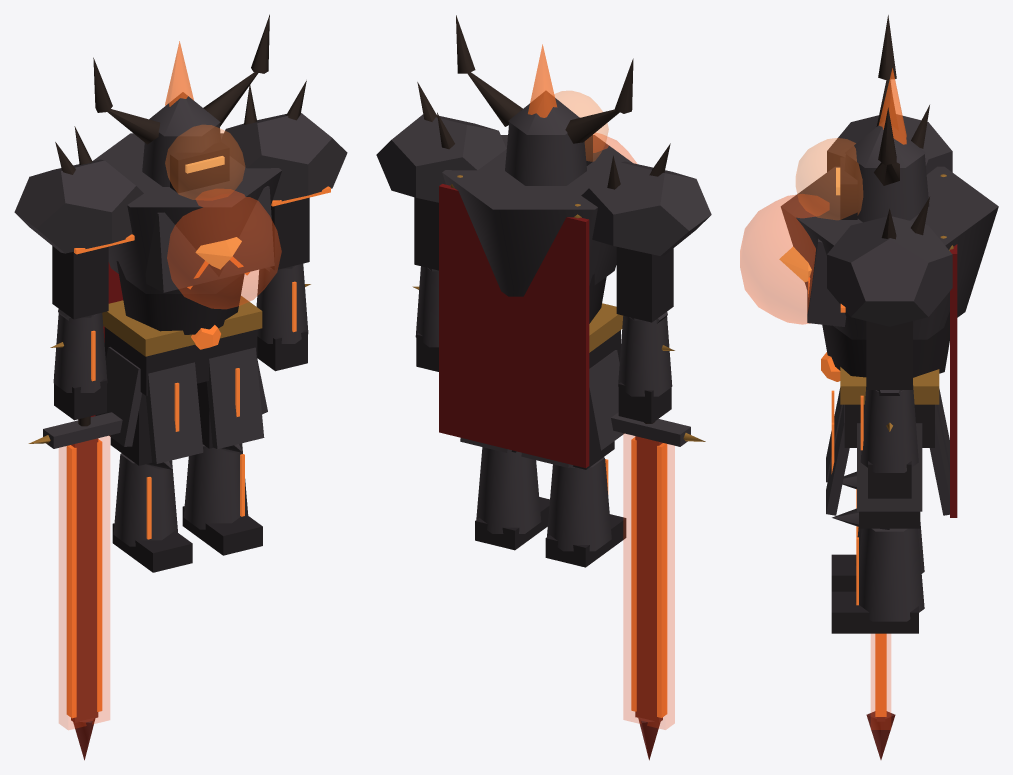
Rendered from BO_SK_Boss_Warlord_v001.glb.
3 views of the same model, side by side, from view 1: azimuth 30°, elevation 25°; view 2: azimuth 150°, elevation 25°; view 3: azimuth 270°, elevation 25° (orthographic). The views are drawn at different scales.
Parts seen in each view (by area): view 1: glowfx_056, body_022, glowfx_025, body_030, body_034, body_052, body_023, glowfx_068, body_003, body_007, body_021, body_013 (+26 smaller); view 2: body_038, glowfx_056, body_022, body_030, body_034, body_052, body_013, body_018, body_064, body_041, body_043, glow_054 (+17 smaller); view 3: body_022, body_034, glowfx_025, body_018, glowfx_068, body_059, body_064, body_057, body_021, body_030, body_020, body_009 (+21 smaller).
Part boxes in pixels (<box>): glowfx_056: <box>59,436,109,729</box>; body_022: <box>92,133,281,293</box>; glowfx_025: <box>167,189,281,308</box>; body_030: <box>14,159,143,253</box>; body_034: <box>221,113,347,201</box>; body_052: <box>71,438,98,722</box>; body_023: <box>145,186,274,292</box>; glowfx_068: <box>165,125,245,199</box>; body_003: <box>146,362,203,463</box>; body_007: <box>206,347,264,449</box>; body_021: <box>116,260,244,334</box>; body_013: <box>113,453,177,546</box>; body_038: <box>439,184,589,468</box>; glowfx_056: <box>623,433,674,729</box>; body_022: <box>442,135,632,296</box>; body_030: <box>581,161,711,255</box>; body_034: <box>376,114,506,202</box>; body_052: <box>635,436,662,722</box>; body_013: <box>547,457,611,551</box>; body_018: <box>476,447,541,533</box>; body_064: <box>505,122,586,185</box>; body_041: <box>616,247,673,322</box>; body_043: <box>618,315,672,396</box>; glow_054: <box>657,443,667,717</box>; body_022: <box>781,166,998,339</box>; body_034: <box>827,216,952,326</box>; glowfx_025: <box>740,194,829,324</box>; body_018: <box>855,528,924,621</box>; glowfx_068: <box>796,138,862,219</box>; body_059: <box>860,385,918,472</box>; body_064: <box>844,154,929,222</box>; body_057: <box>866,321,912,389</box>; body_021: <box>822,311,949,377</box>; body_030: <box>827,114,952,174</box>; body_020: <box>831,591,918,633</box>; body_009: <box>857,423,922,511</box>.
Size of the model in its own units: 2.68 by 5.71 by 1.78.
